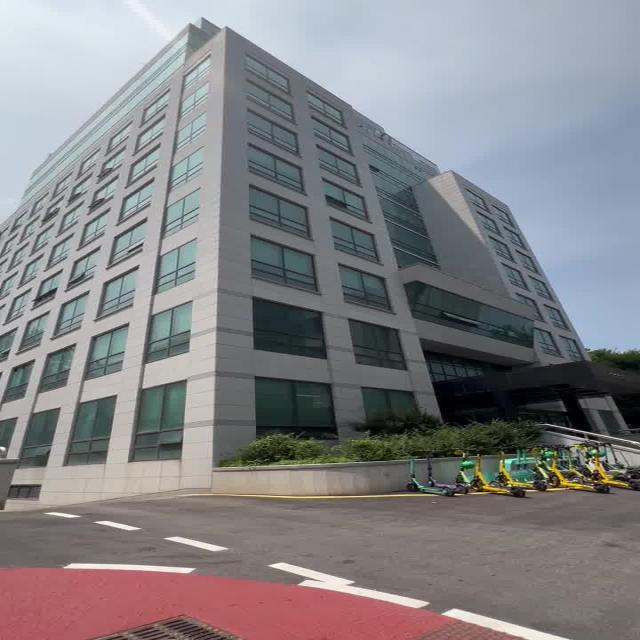building: (7, 26, 606, 432)
